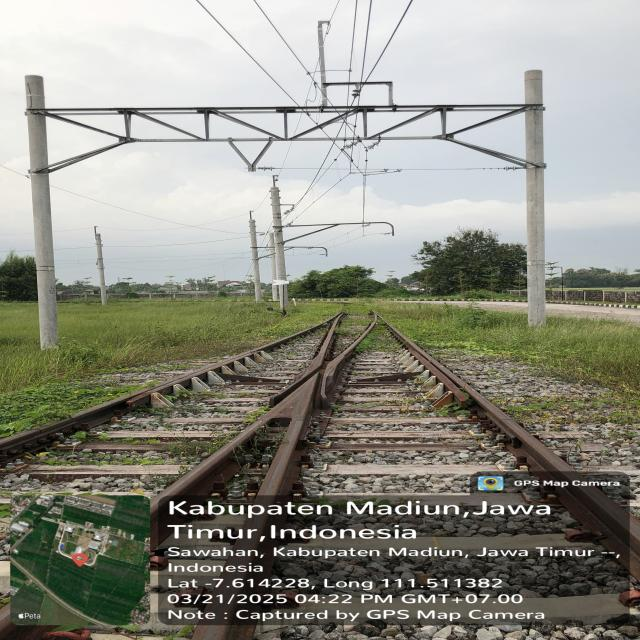rail-detection: (150, 313, 640, 640), (0, 352, 280, 451)
